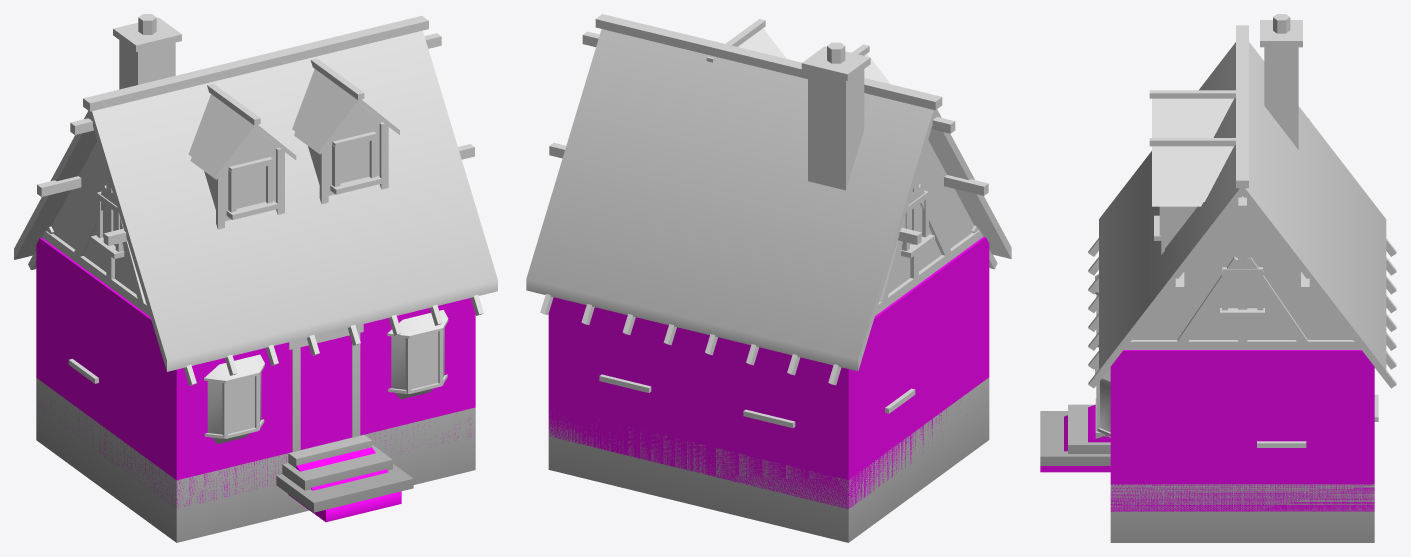
The model's file is imp_house_b.glb.
3 views of the same model, side by side, from view 1: azimuth 30°, elevation 25°; view 2: azimuth 150°, elevation 25°; view 3: azimuth 270°, elevation 25° (orthographic). The views are drawn at different scales.
Visible parts, largest first — view 1: imp_house_b, imp_house_b_hull; view 2: imp_house_b, imp_house_b_hull; view 3: imp_house_b, imp_house_b_hull.
Boxes of the visible parts, bbox=[...] form: imp_house_b: bbox=[14, 14, 497, 542]; imp_house_b_hull: bbox=[36, 238, 475, 522]; imp_house_b: bbox=[526, 14, 1011, 542]; imp_house_b_hull: bbox=[548, 236, 989, 509]; imp_house_b: bbox=[1040, 14, 1396, 542]; imp_house_b_hull: bbox=[1040, 350, 1374, 511].
Size of the model in its own units: 9.2 by 10.64 by 8.25.
